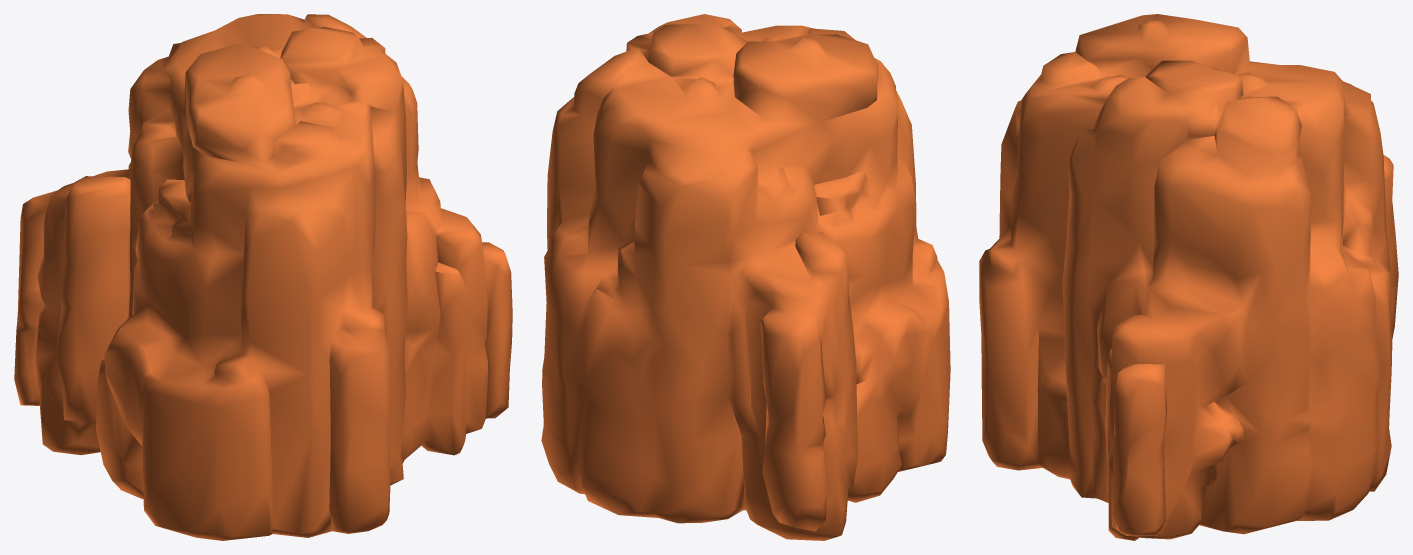
The model's file is Rock3.fbx.
The picture shows the model from 3 angles, left to right: view 1: azimuth 30°, elevation 25°; view 2: azimuth 150°, elevation 25°; view 3: azimuth 270°, elevation 25°; orthographic projection.
Parts seen in each view (by area): view 1: cliff1_2; view 2: cliff1_2; view 3: cliff1_2.
Part boxes in pixels (box(x1,y1,x2,y2)): cliff1_2: box(14, 14, 512, 540); cliff1_2: box(541, 14, 950, 540); cliff1_2: box(979, 14, 1398, 540).
Size of the model in its own units: 472 by 504 by 446.
